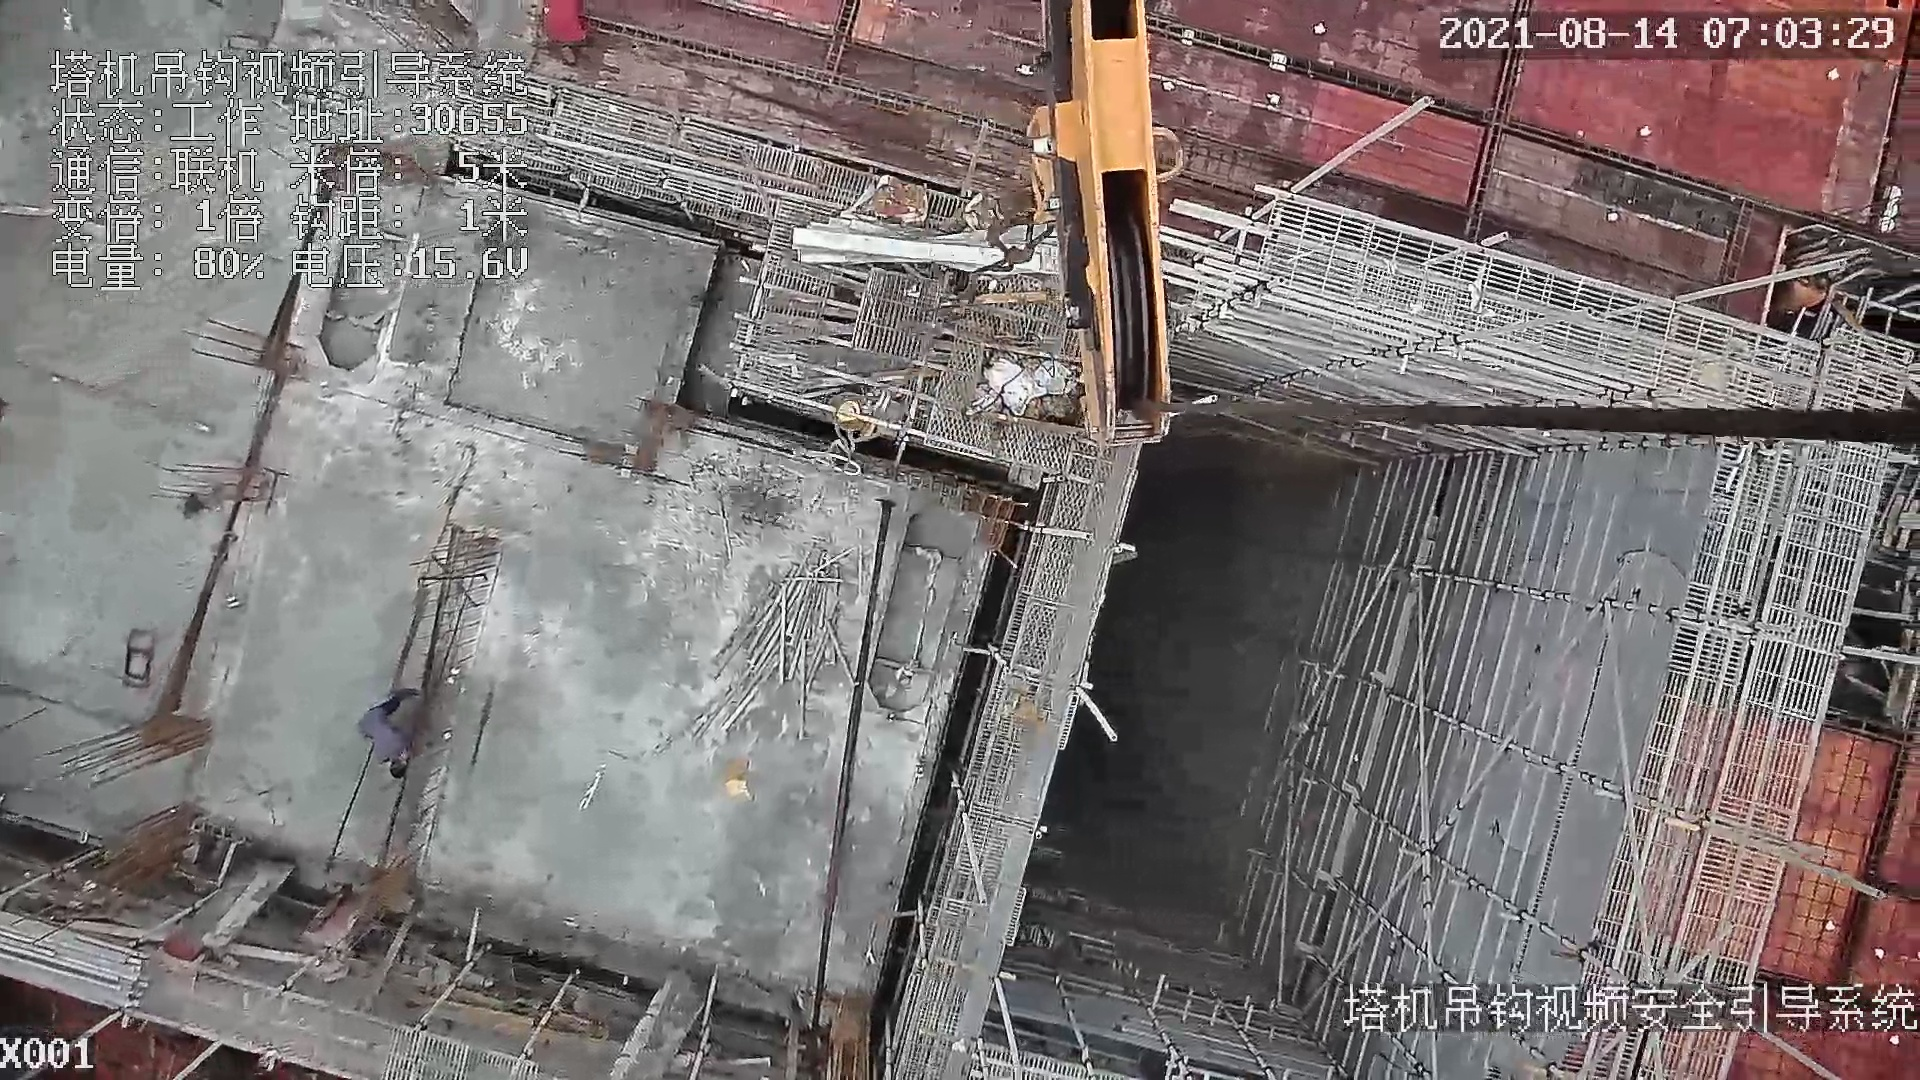hook: (1020, 1, 1194, 446)
person: (372, 682, 423, 786), (541, 1, 594, 63)
